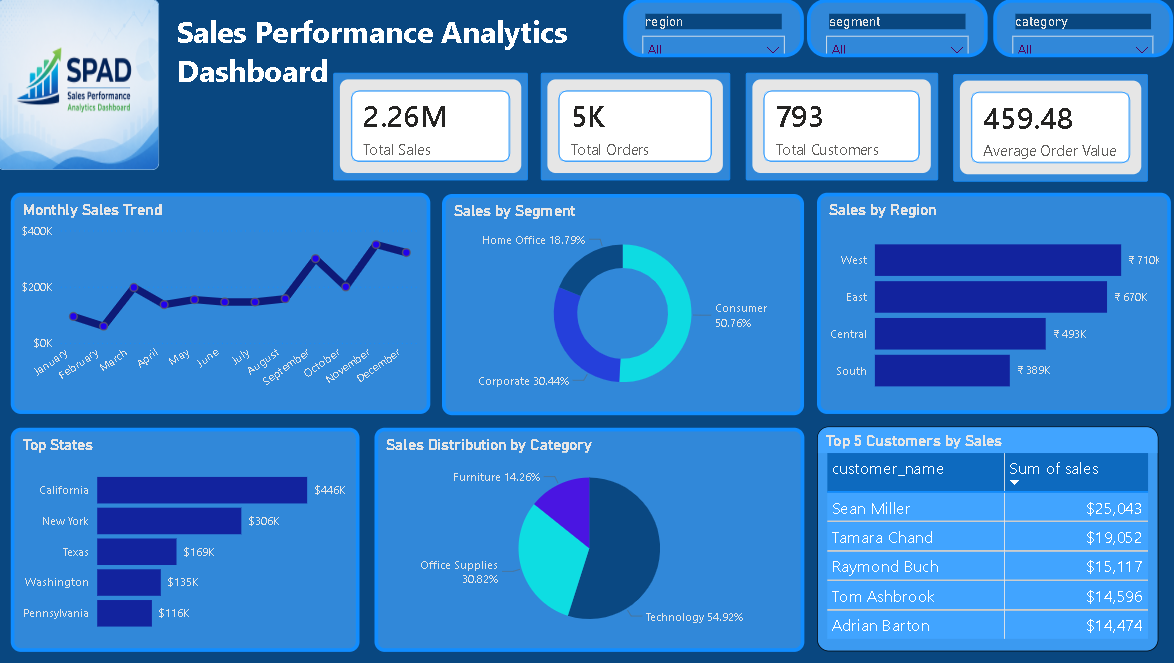

Layout of this report page (visuals, bound fields, positions):
{"tool":"powerbi","page":{"name":"Dashboard","canvas":[1280,720],"ordinal":0},"visuals":[{"type":"lineChart","title":"Monthly Sales Trend","fields":{"Category":["sales_data.order_date.Variation.Date Hierarchy.Month"],"Y":["Sum(sales_data.sales)"]},"box":[15.1,209.9,455.6,240.1],"z":0},{"type":"barChart","title":"Sales by Region","fields":{"Category":["sales_data.region"],"Y":["Sum(sales_data.sales)"]},"box":[889.2,209.9,384.2,240.1],"z":1000},{"type":"donutChart","title":"Sales by Segment","fields":{"Category":["sales_data.segment"],"Y":["Sum(sales_data.sales)"]},"box":[483,211.3,392.5,240.1],"z":2000},{"type":"cardVisual","fields":{"Data":["sales_data.Total Orders"]},"box":[590.1,79.6,205.8,116.6],"z":3000},{"type":"cardVisual","fields":{"Data":["sales_data.Total Customers"]},"box":[812.4,79.6,208.6,116.6],"z":4000},{"type":"cardVisual","fields":{"Data":["sales_data.Total Sales"]},"box":[365,79.6,211.3,116.6],"z":5000},{"type":"pieChart","title":"Sales Distribution by Category","fields":{"Category":["sales_data.category"],"Y":["Sum(sales_data.sales)"]},"box":[408.9,465.2,466.6,242.9],"z":6000},{"type":"barChart","title":"Top States","fields":{"Category":["sales_data.state"],"Y":["Sum(sales_data.sales)"]},"box":[15.1,465.2,378.7,242.9],"z":7000},{"type":"tableEx","title":"Top 5 Customers by Sales","fields":{"Values":["sales_data.customer_name","Sum(sales_data.sales)"]},"box":[889.2,463.8,370.5,244.3],"z":8000},{"type":"slicer","fields":{"Values":["sales_data.region"]},"box":[679.2,0,196.2,63.1],"z":9000},{"type":"slicer","fields":{"Values":["sales_data.segment"]},"box":[878.2,0,196.2,63.1],"z":10000},{"type":"slicer","fields":{"Values":["sales_data.category"]},"box":[1081.3,0,194.9,63.1],"z":11000},{"type":"cardVisual","fields":{"Data":["sales_data.Average Order Value"]},"box":[1037.4,81,211.3,116.6],"z":12000},{"type":"textbox","box":[189.4,8.2,606.5,109.8],"z":13000},{"type":"image","box":[0,0,176.3,185.8],"z":14000}]}

Visuals, with their boxes in screenshot pixels (x1, y1, x2, y2), scaled from the page's 1280x720 canvas onto the 1174x663 screenshot:
"Monthly Sales Trend" lineChart: [14,193,432,414]
"Sales by Region" barChart: [816,193,1168,414]
"Sales by Segment" donutChart: [443,195,803,416]
cardVisual - sales_data.Total Orders: [541,73,730,181]
cardVisual - sales_data.Total Customers: [745,73,936,181]
cardVisual - sales_data.Total Sales: [335,73,529,181]
"Sales Distribution by Category" pieChart: [375,428,803,652]
"Top States" barChart: [14,428,361,652]
"Top 5 Customers by Sales" tableEx: [816,427,1155,652]
slicer - sales_data.region: [623,0,803,58]
slicer - sales_data.segment: [805,0,985,58]
slicer - sales_data.category: [992,0,1171,58]
cardVisual - sales_data.Average Order Value: [951,75,1145,182]
textbox: [174,8,730,109]
image: [0,0,162,171]
